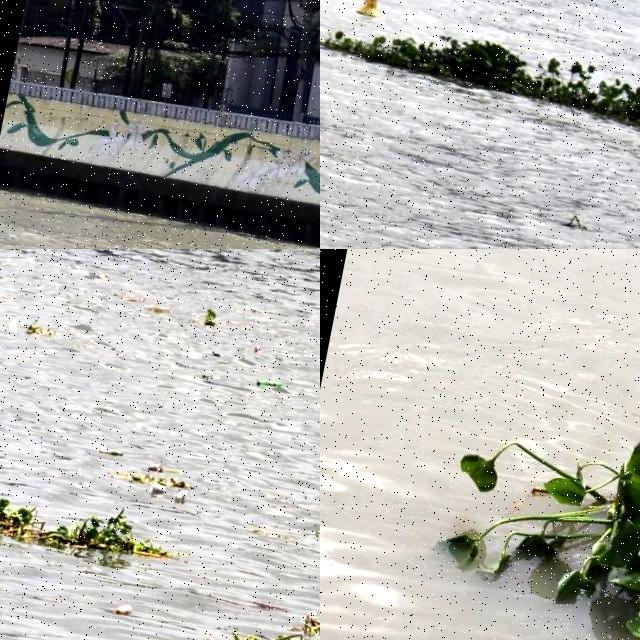water-hyacinth: (429, 357, 640, 640), (324, 8, 640, 158), (1, 474, 172, 571), (321, 10, 358, 55), (26, 313, 59, 343), (95, 440, 131, 466), (203, 304, 227, 334)
